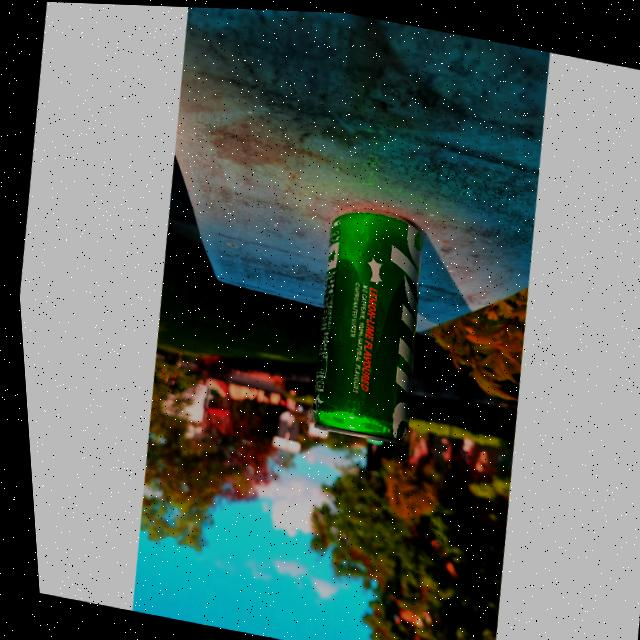Sprite: (287, 204, 438, 451)
